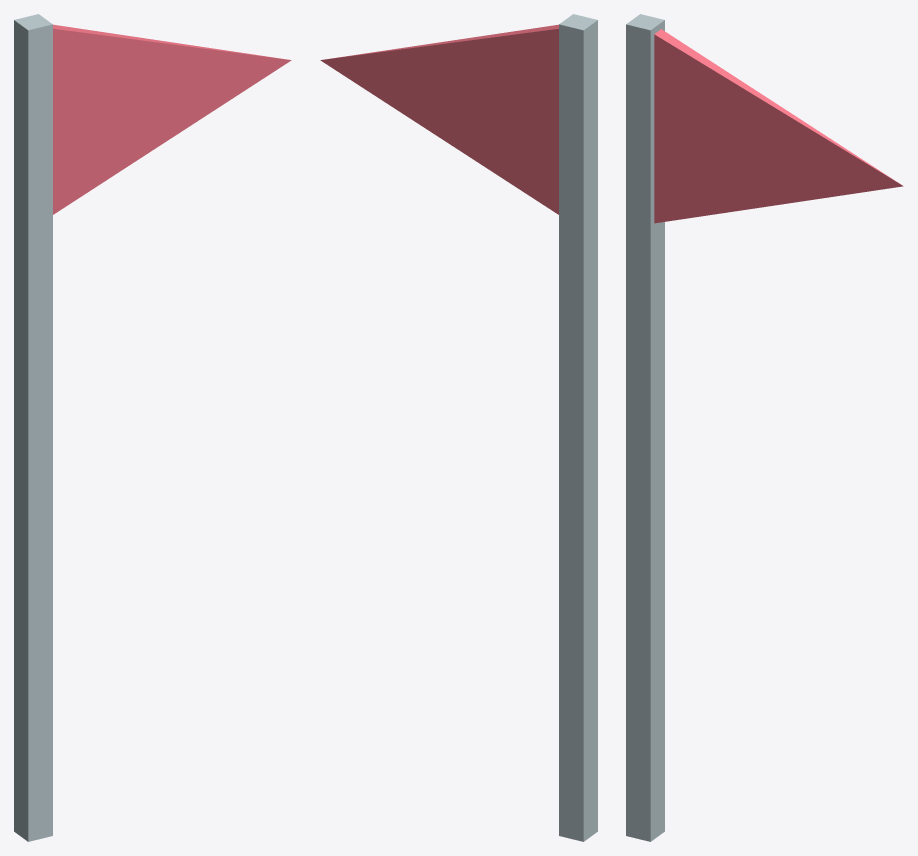
File: flag_red.glb
3 renders of one model, left to right at view 1: azimuth 30°, elevation 25°; view 2: azimuth 150°, elevation 25°; view 3: azimuth 330°, elevation 25°, orthographic.
Visible parts, largest first — view 1: flag_red; view 2: flag_red; view 3: flag_red.
Boxes of the visible parts, bbox=[...] form: flag_red: bbox=[14, 14, 291, 841]; flag_red: bbox=[320, 14, 597, 841]; flag_red: bbox=[626, 14, 903, 841].
Size of the model in its own units: 0.3666 by 1.05 by 0.0333.
